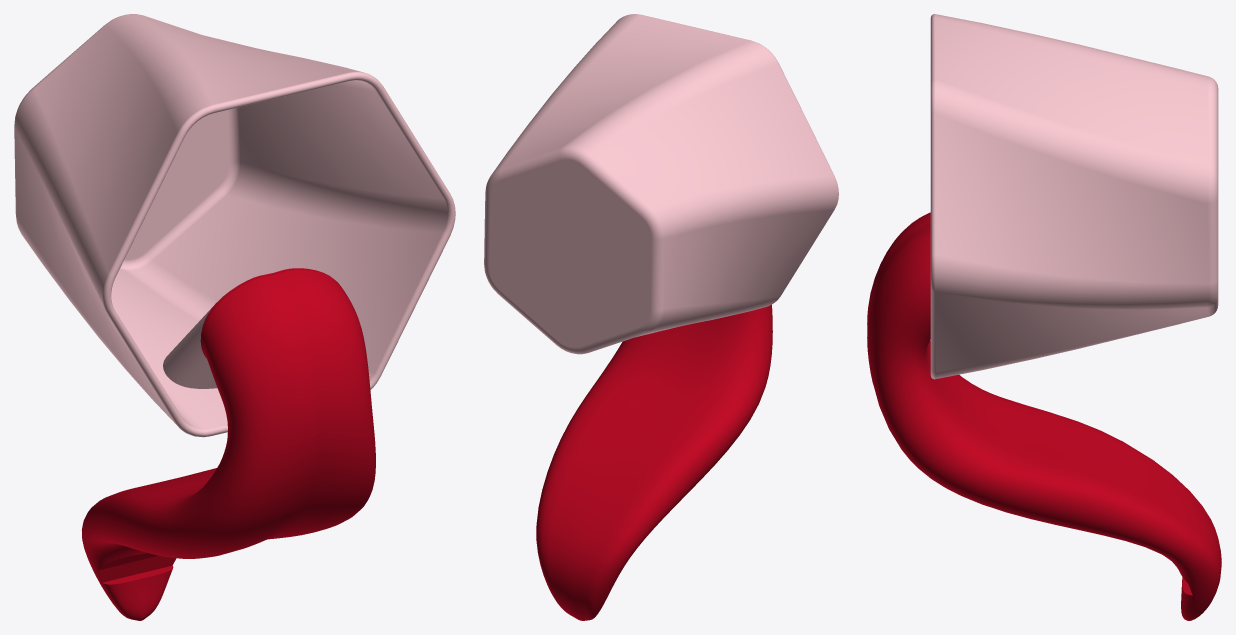
The model's file is Rock 'n' Roll Record Stand.fbx.
3 views of the same model, side by side, from view 1: azimuth 30°, elevation 25°; view 2: azimuth 150°, elevation 25°; view 3: azimuth 270°, elevation 25° (orthographic). The views are drawn at different scales.
Visible parts, largest first — view 1: Body1 (×2), Body2; view 2: Body1 (×2); view 3: Body1 (×2), Body2.
Part boxes in pixels (<box>): Body1 (×2): <box>14,14,455,620</box>; Body2: <box>200,268,375,479</box>; Body1 (×2): <box>484,14,838,620</box>; Body1 (×2): <box>874,14,1221,620</box>; Body2: <box>867,212,934,398</box>.
Bounding box in the file's own units: 181 × 312 × 175.
